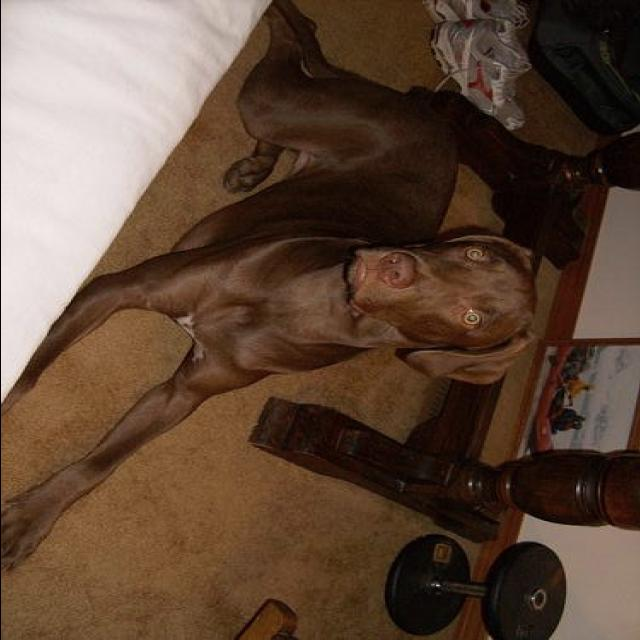vizsla: (2, 0, 540, 577)
